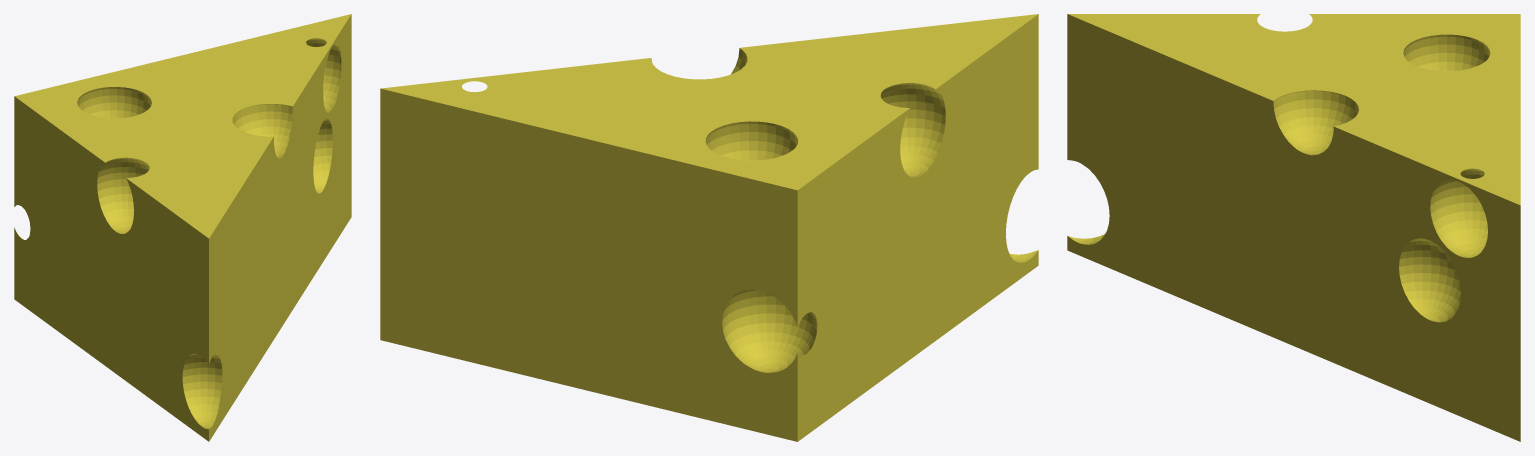
The model's file is cheese.glb.
The picture shows the model from 3 angles, left to right: view 1: azimuth 30°, elevation 25°; view 2: azimuth 150°, elevation 25°; view 3: azimuth 270°, elevation 25°; orthographic projection. The views are drawn at different scales.
Visible parts, largest first — view 1: Cube; view 2: Cube; view 3: Cube.
Boxes of the visible parts, x1,y1,x2,y2 form: Cube: (14,14,351,441); Cube: (380,14,1038,441); Cube: (1067,14,1520,441).
Size of the model in its own units: 0.2 by 0.1152 by 0.2.
